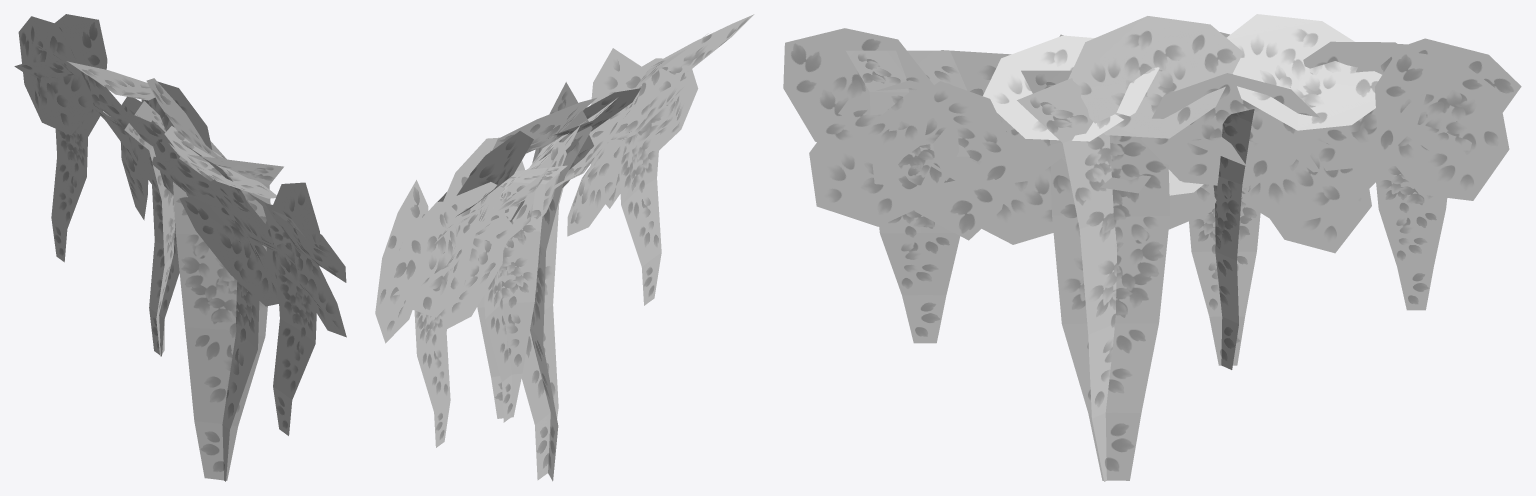
Rendered from SM_Vines_Wide_02.fbx.
The picture shows the model from 3 angles, left to right: view 1: azimuth 30°, elevation 25°; view 2: azimuth 150°, elevation 25°; view 3: azimuth 270°, elevation 25°; orthographic projection. The views are drawn at different scales.
Parts seen in each view (by area): view 1: Vines_Wide_02_LOD0; view 2: Vines_Wide_02_LOD0; view 3: Vines_Wide_02_LOD0.
Boxes of the visible parts, x1=… form: Vines_Wide_02_LOD0: x1=14, y1=14, x2=346, y2=481; Vines_Wide_02_LOD0: x1=375, y1=14, x2=754, y2=481; Vines_Wide_02_LOD0: x1=783, y1=14, x2=1521, y2=481.
Size of what is drawn, in the model's own units: 1.04 by 3.63 by 5.55.
